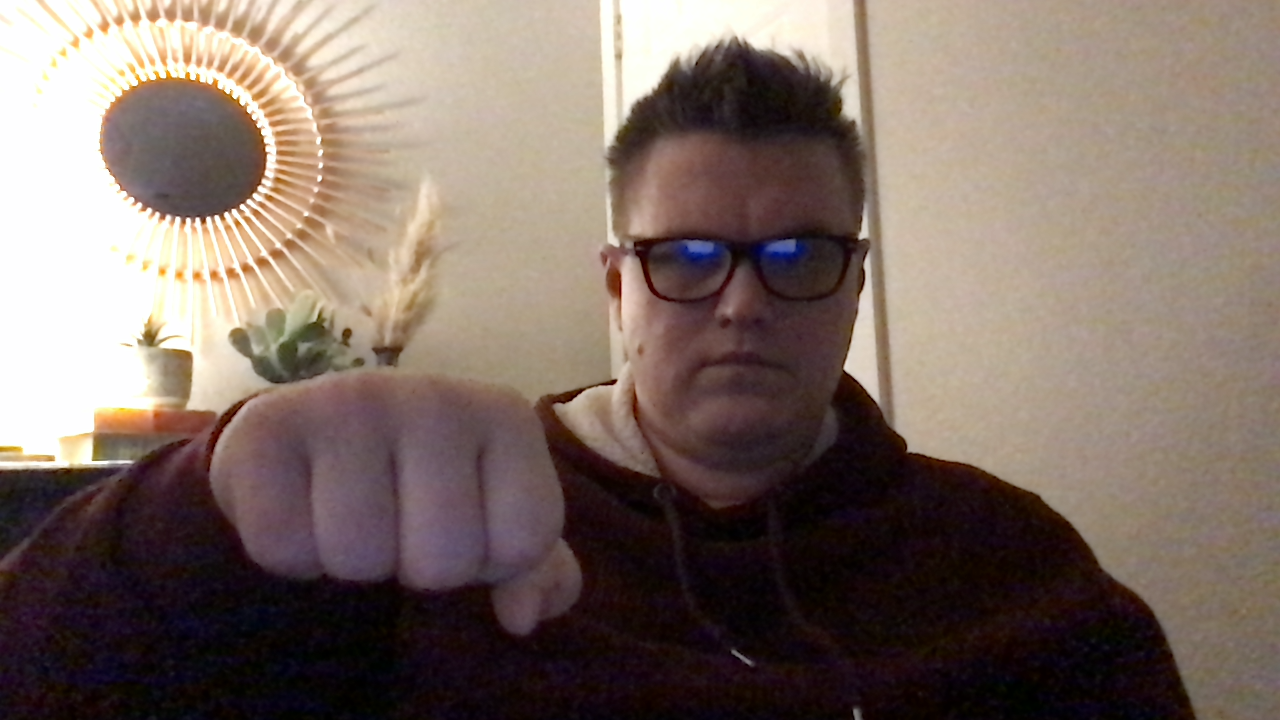yes: (203, 362, 596, 650)
